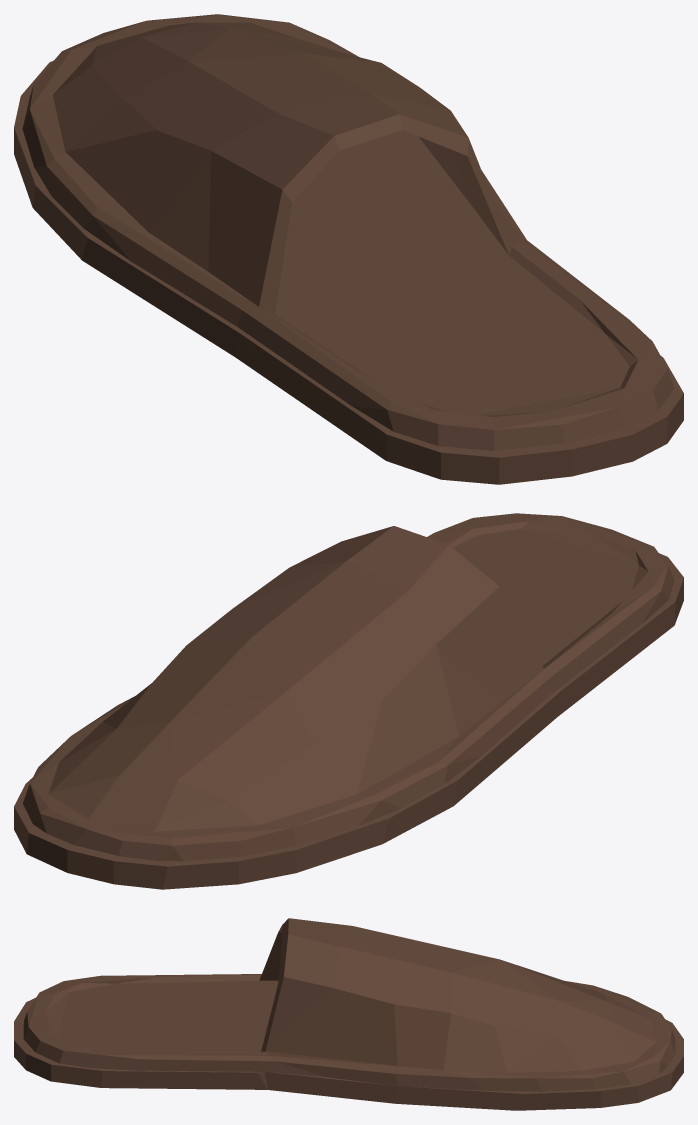
File: mpantofla-aristero.fbx
The picture shows the model from 3 angles, top to bottom: view 1: azimuth 30°, elevation 25°; view 2: azimuth 150°, elevation 25°; view 3: azimuth 270°, elevation 25°; orthographic projection. The views are drawn at different scales.
Visible parts, largest first — view 1: Plane; view 2: Plane; view 3: Plane.
Boxes of the visible parts, box(x1,y1,x2,y2) form: Plane: box(14, 14, 683, 484); Plane: box(14, 513, 683, 889); Plane: box(14, 918, 683, 1110).
Bounding box in the file's own units: 396 × 187 × 957.
1 material, 1 textured.
